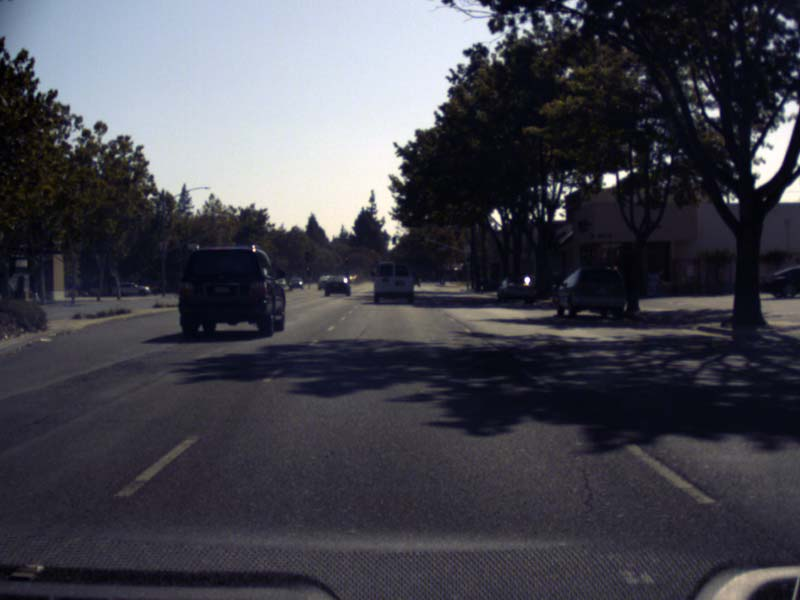Green: (420, 235, 423, 246)
Red: (305, 265, 310, 279), (343, 255, 350, 265)
